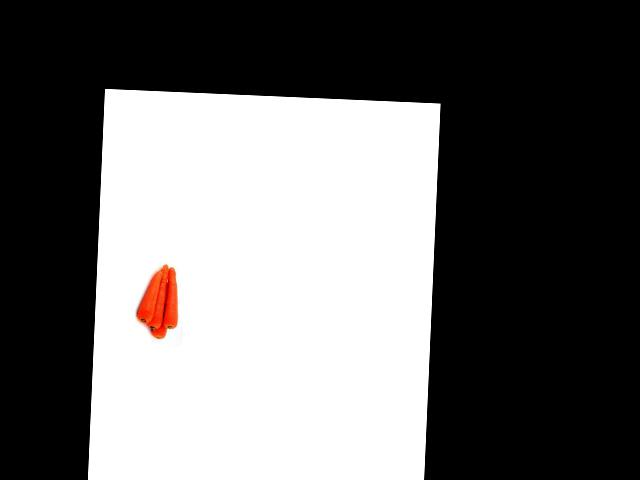carrot: (137, 267, 156, 325)
